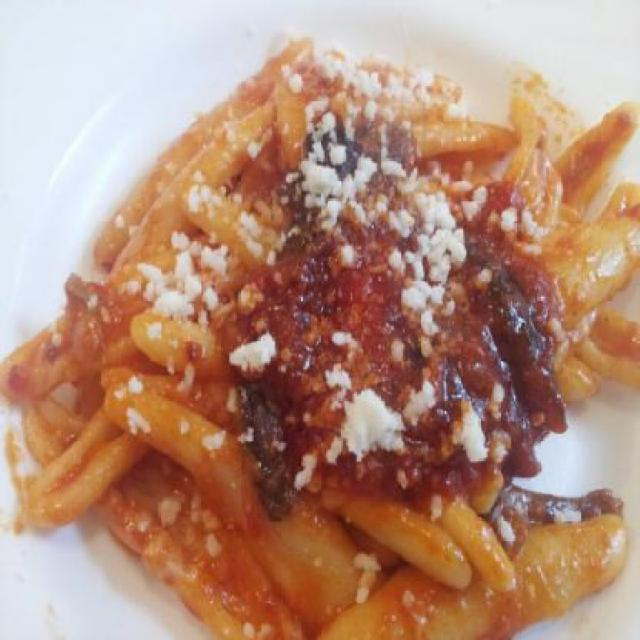Pasta al ragu: (88, 39, 616, 610)
